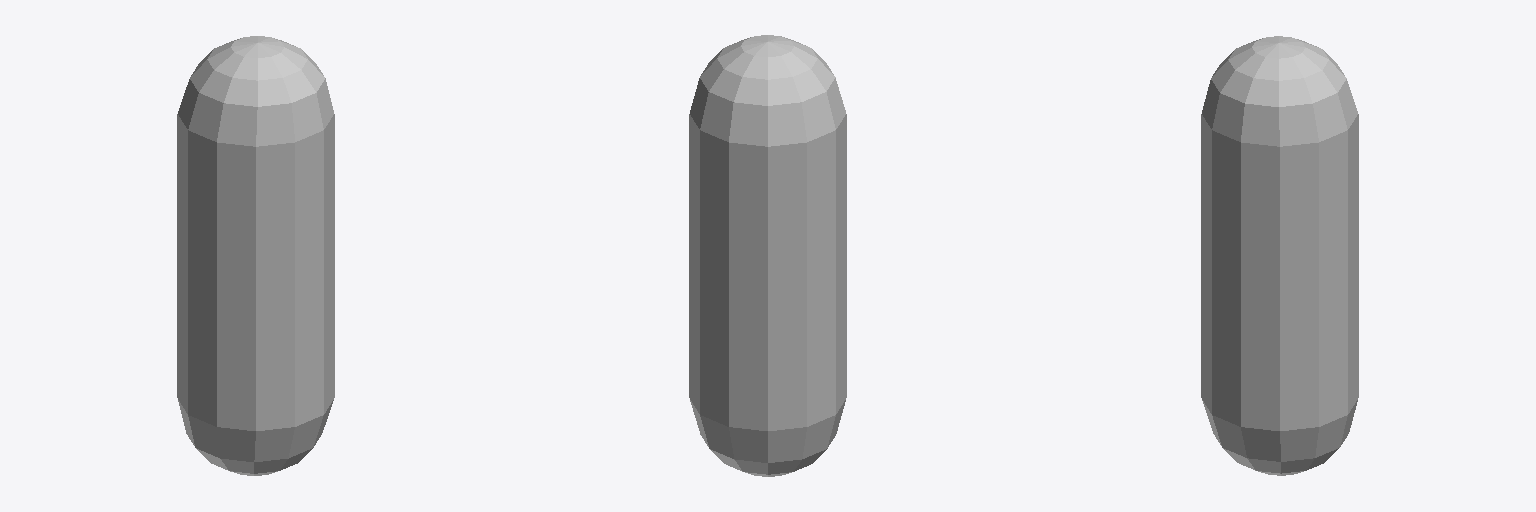
Rendered from speed.obj.
3 views of the same model, side by side, from view 1: azimuth 30°, elevation 25°; view 2: azimuth 150°, elevation 25°; view 3: azimuth 270°, elevation 25° (orthographic).
Visible parts, largest first — view 1: group[number redacted], group[number redacted], group[number redacted], group[number redacted]; view 2: group[number redacted], group[number redacted], group[number redacted], group[number redacted]; view 3: group[number redacted], group[number redacted], group[number redacted], group[number redacted].
Boxes of the visible parts, <box> form: group[number redacted]: <box>177,114,334,288</box>; group[number redacted]: <box>177,256,334,430</box>; group[number redacted]: <box>178,36,333,146</box>; group[number redacted]: <box>178,400,333,475</box>; group[number redacted]: <box>689,114,846,288</box>; group[number redacted]: <box>689,256,846,430</box>; group[number redacted]: <box>690,35,845,146</box>; group[number redacted]: <box>690,400,845,476</box>; group[number redacted]: <box>1201,114,1358,288</box>; group[number redacted]: <box>1201,256,1358,430</box>; group[number redacted]: <box>1202,36,1357,146</box>; group[number redacted]: <box>1202,400,1357,475</box>.
Bounding box in the file's own units: 0.08 × 0.24 × 0.08.